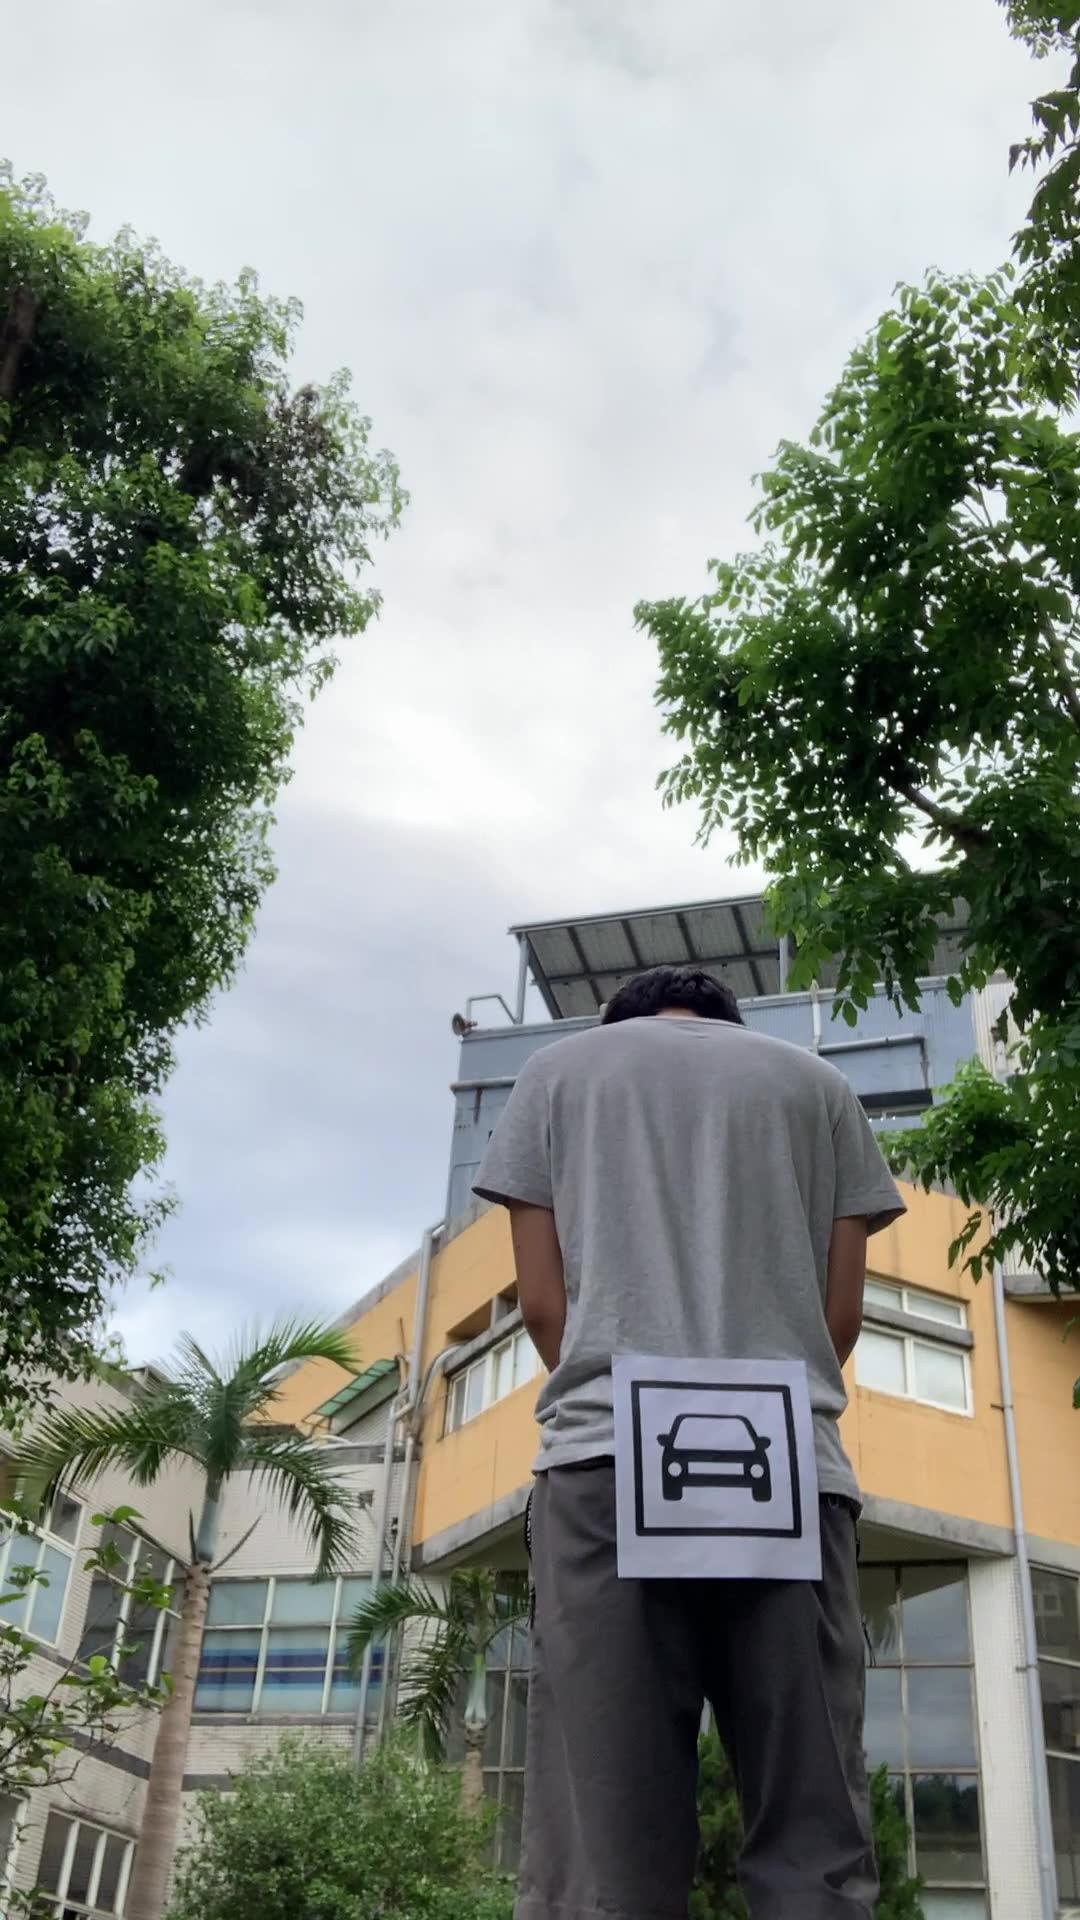car_img: (630, 1379, 803, 1540)
